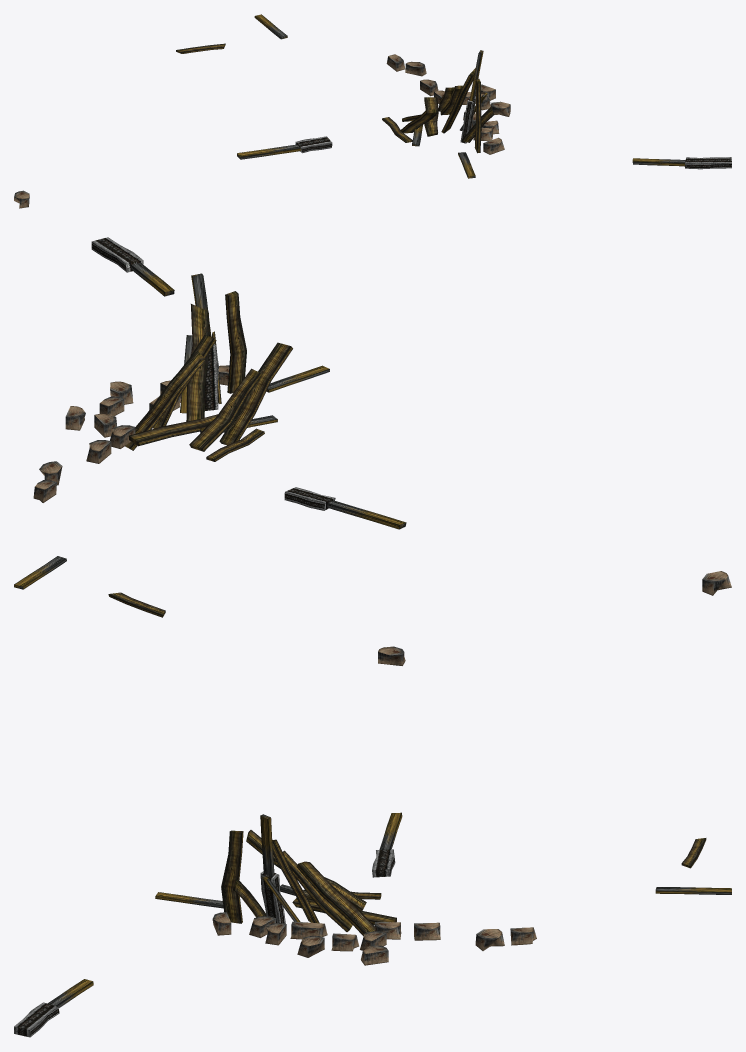
File: CB_BEIORN_WALL_EXPLODE_ENDSTATE.fbx
The picture shows the model from 3 angles, top to bottom: view 1: azimuth 30°, elevation 25°; view 2: azimuth 150°, elevation 25°; view 3: azimuth 270°, elevation 25°; orthographic projection. The views are drawn at different scales.
Parts seen in each view (by area): view 1: CB_BEIORN_WALL_EXPLODE_ENDSTATE; view 2: CB_BEIORN_WALL_EXPLODE_ENDSTATE; view 3: CB_BEIORN_WALL_EXPLODE_ENDSTATE.
Part boxes in pixels (bbox=[...]): CB_BEIORN_WALL_EXPLODE_ENDSTATE: bbox=[14, 14, 731, 208]; CB_BEIORN_WALL_EXPLODE_ENDSTATE: bbox=[14, 237, 731, 617]; CB_BEIORN_WALL_EXPLODE_ENDSTATE: bbox=[14, 646, 731, 1037].
Size of the model in its own units: 252167 by 40994 by 201600.
Materials: 4 (4 with a texture image).
